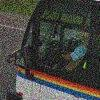buses: (11, 0, 100, 100)
